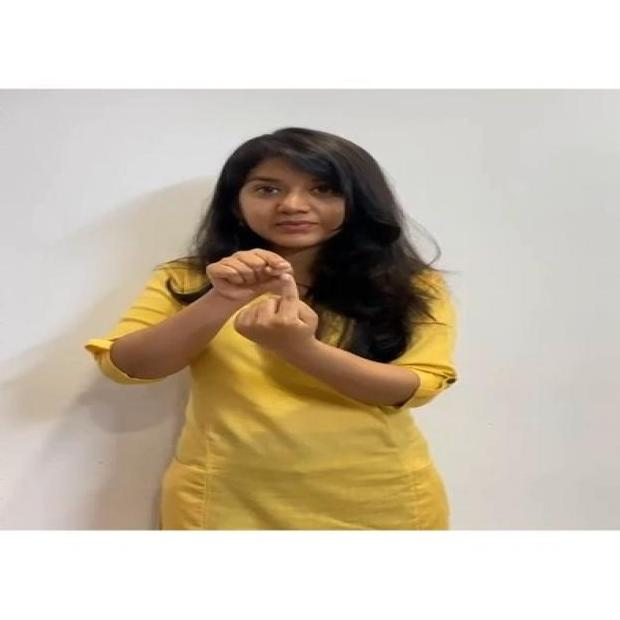H: (198, 243, 351, 365)
